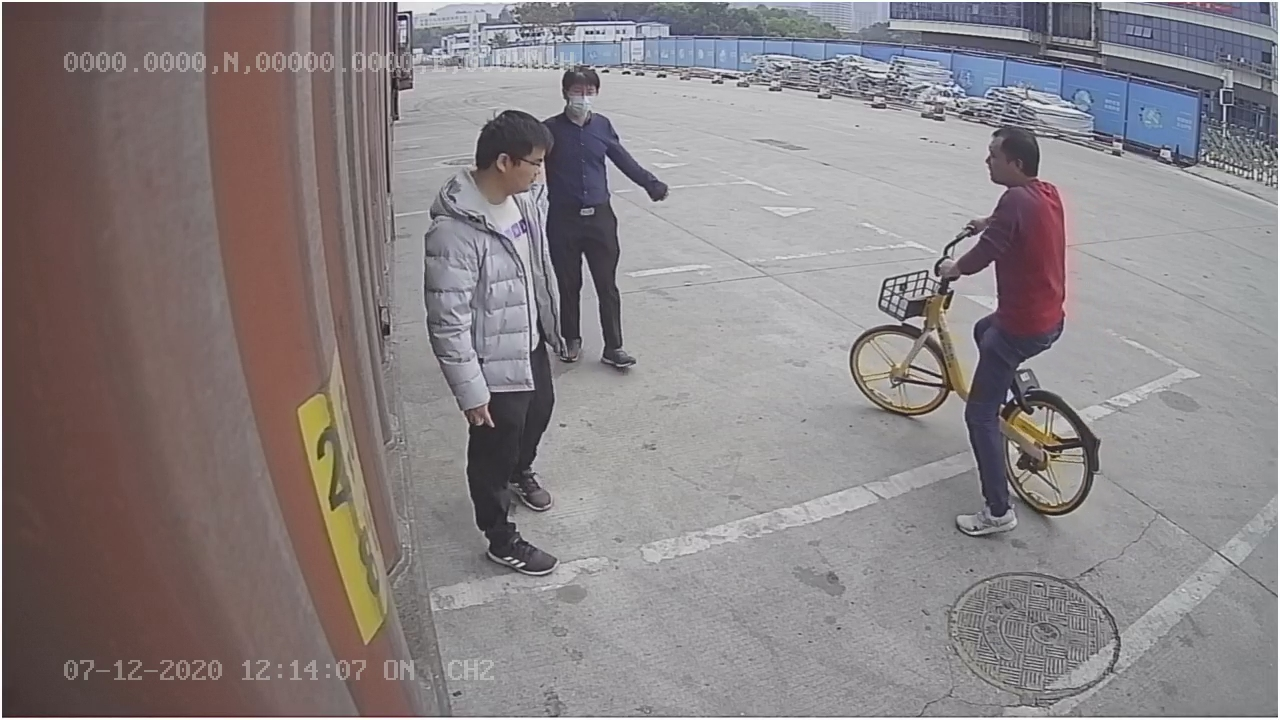person: (422, 103, 567, 576)
